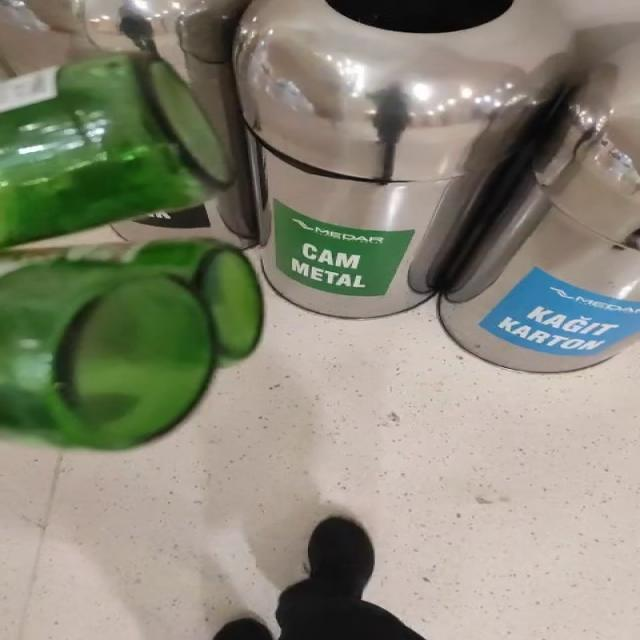Glass: (1, 240, 263, 450), (1, 54, 229, 246)
